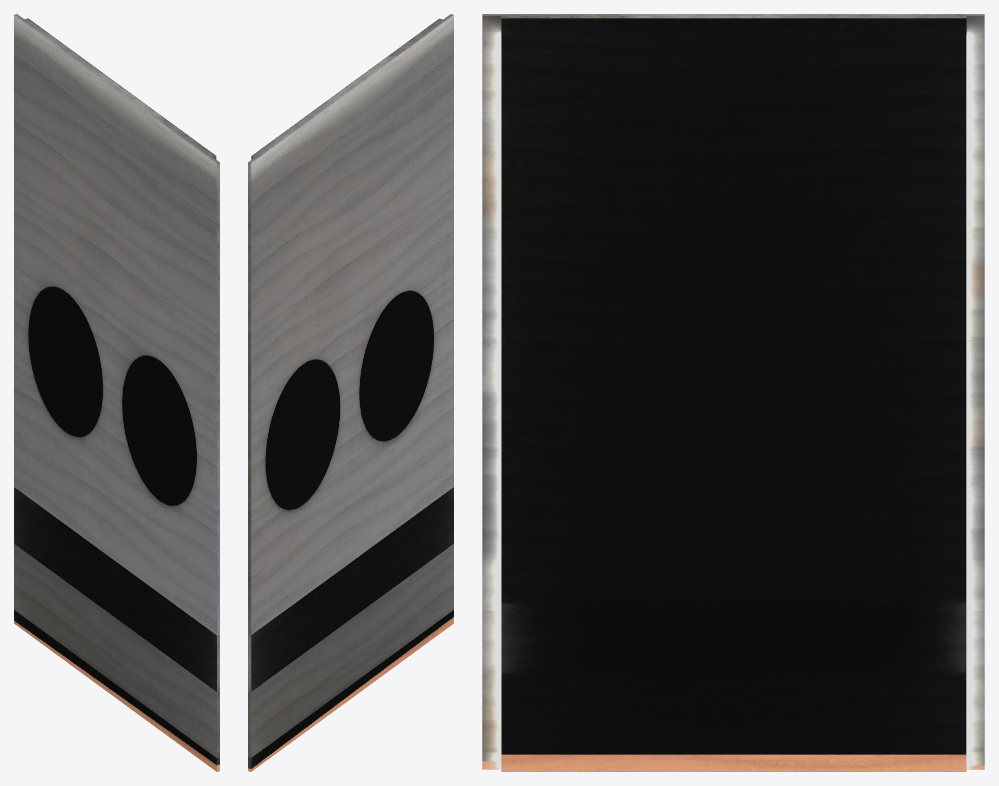
The model's file is MirrorWall_Wavy_white_decor.glb.
3 views of the same model, side by side, from view 1: azimuth 30°, elevation 25°; view 2: azimuth 150°, elevation 25°; view 3: azimuth 270°, elevation 25° (orthographic). The views are drawn at different scales.
Parts seen in each view (by area): view 1: MirrorWall_Wavy_white_decor; view 2: MirrorWall_Wavy_white_decor; view 3: MirrorWall_Wavy_white_decor.
Part boxes in pixels (x1,y1,x2,y2): MirrorWall_Wavy_white_decor: (14, 14, 219, 771); MirrorWall_Wavy_white_decor: (248, 14, 453, 771); MirrorWall_Wavy_white_decor: (482, 14, 984, 771).
Bounding box in the file's own units: 0.1216 × 9.91 × 5.98.
Materials: 1 (1 with a texture image).
